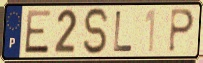1: (145, 9, 157, 53)
2: (53, 7, 79, 56)
E: (23, 9, 53, 55)
L: (112, 9, 135, 54)
P: (167, 7, 196, 54)
S: (82, 6, 111, 57)
